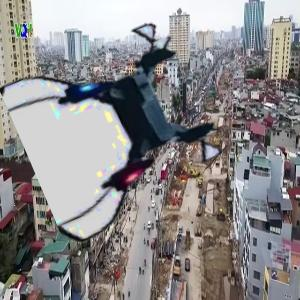drone: (24, 30, 217, 223)
